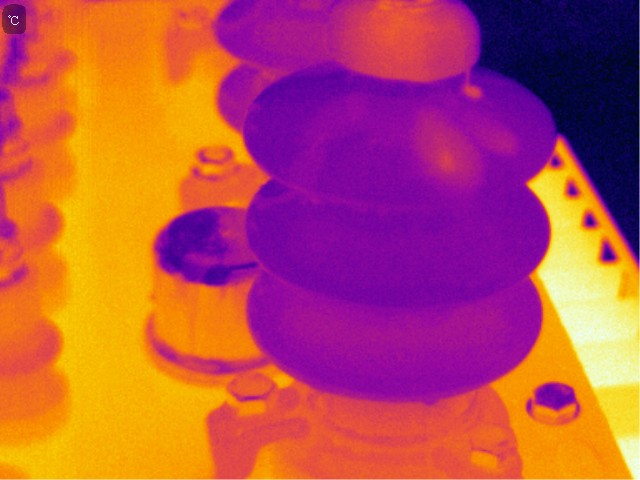Oil: (319, 1, 482, 87), (407, 107, 486, 194), (476, 116, 521, 160), (460, 81, 486, 101), (420, 392, 441, 408)
